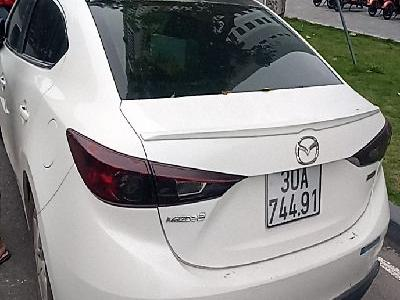car: (266, 164, 323, 229)
